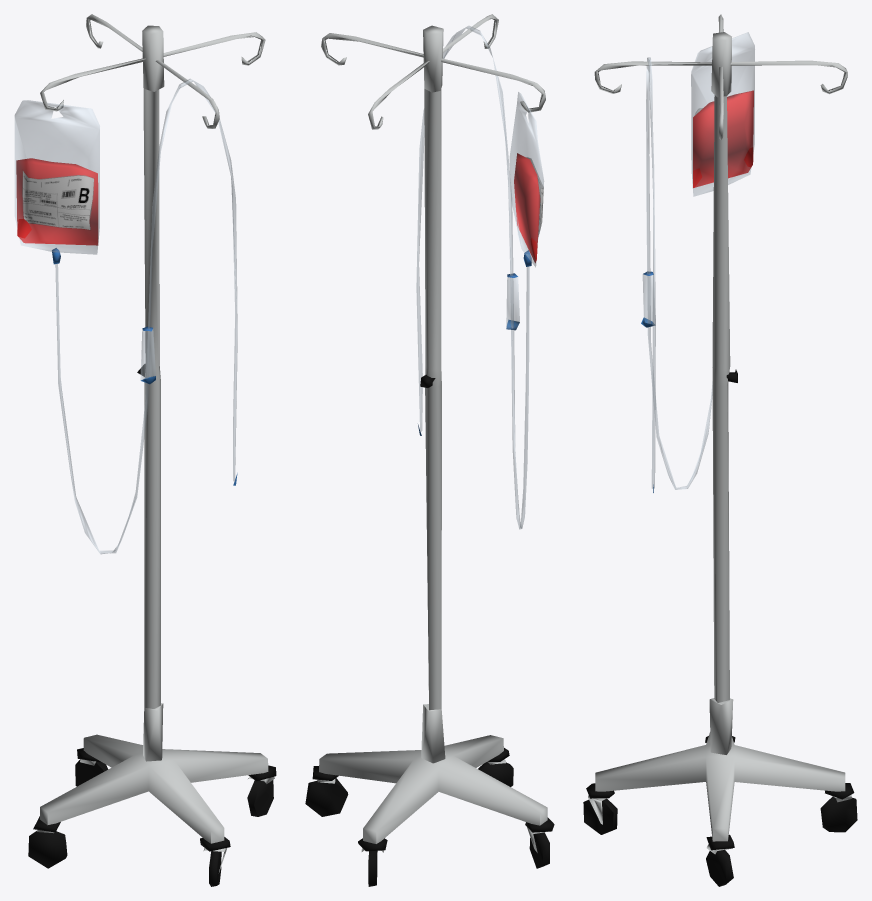
File: iv_holder.glb
The picture shows the model from 3 angles, left to right: view 1: azimuth 30°, elevation 25°; view 2: azimuth 150°, elevation 25°; view 3: azimuth 270°, elevation 25°; orthographic projection.
Visible parts, largest first — view 1: Iv_bag_holder; view 2: Iv_bag_holder; view 3: Iv_bag_holder.
Part boxes in pixels (x1,y1,x2,y2): Iv_bag_holder: (14,14,276,886); Iv_bag_holder: (305,14,554,886); Iv_bag_holder: (583,14,857,886).
Bounding box in the file's own units: 0.6323 × 2 × 0.6246.
2 materials, 2 textured.
